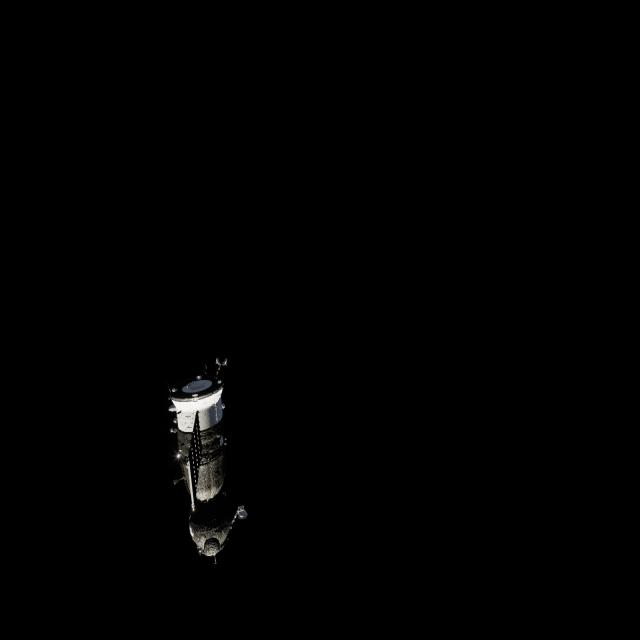Satellites revolving around earth: (164, 354, 249, 565)
